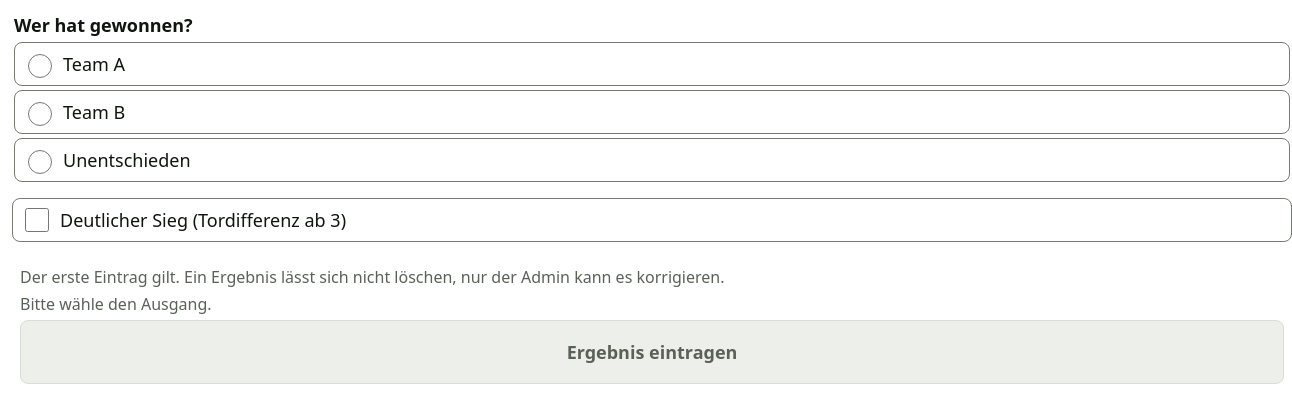
it: ErgebnisFormular: Eingabe › gibt die Aktion mit der Auswahl frei und nimmt den Grund weg
Click the radio button with test id "ergebnis-sieger-a": coordinates (40, 66) [28, 54, 52, 78]
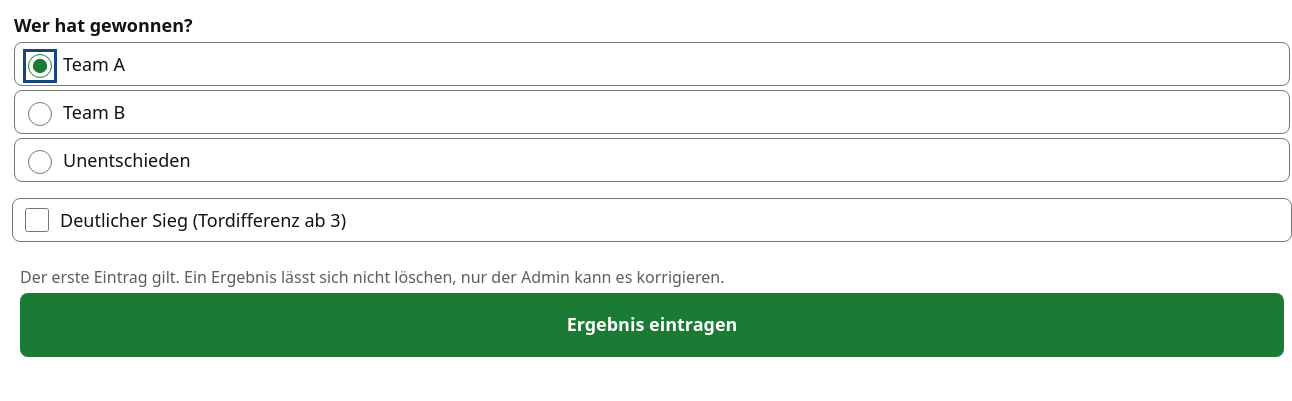
Now the text with test id "ergebnis-grund" is gone
